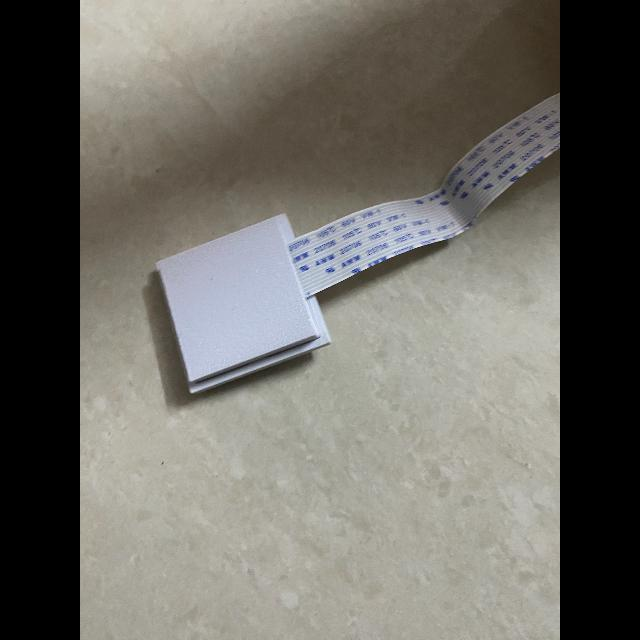RASPBERY PI CAM ENCLOSURE: (154, 212, 332, 394)
